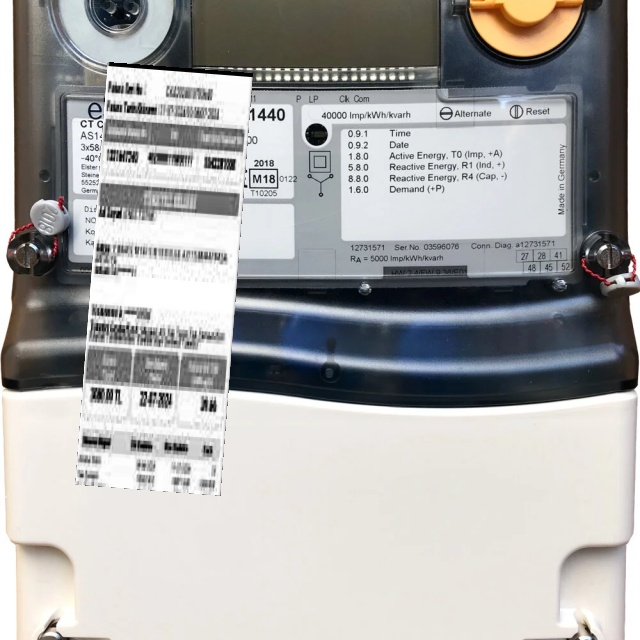electricity-bill: (75, 61, 253, 495)
